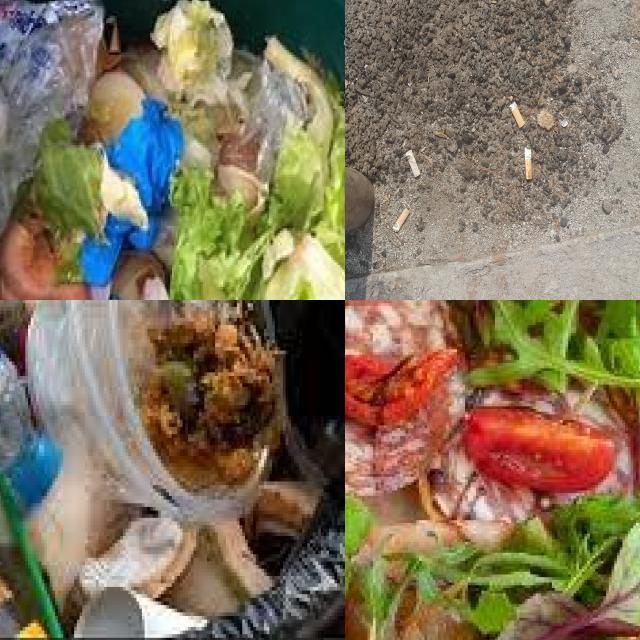Background: (345, 0, 640, 284)
Cig_bud: (405, 150, 421, 178), (392, 208, 410, 232), (509, 102, 525, 128), (524, 147, 532, 180), (545, 0, 554, 7)
Disposable: (28, 300, 268, 521), (130, 594, 204, 638)
Garbage: (0, 300, 327, 640), (345, 300, 640, 640)
Plastic_Straw: (0, 474, 64, 640)
